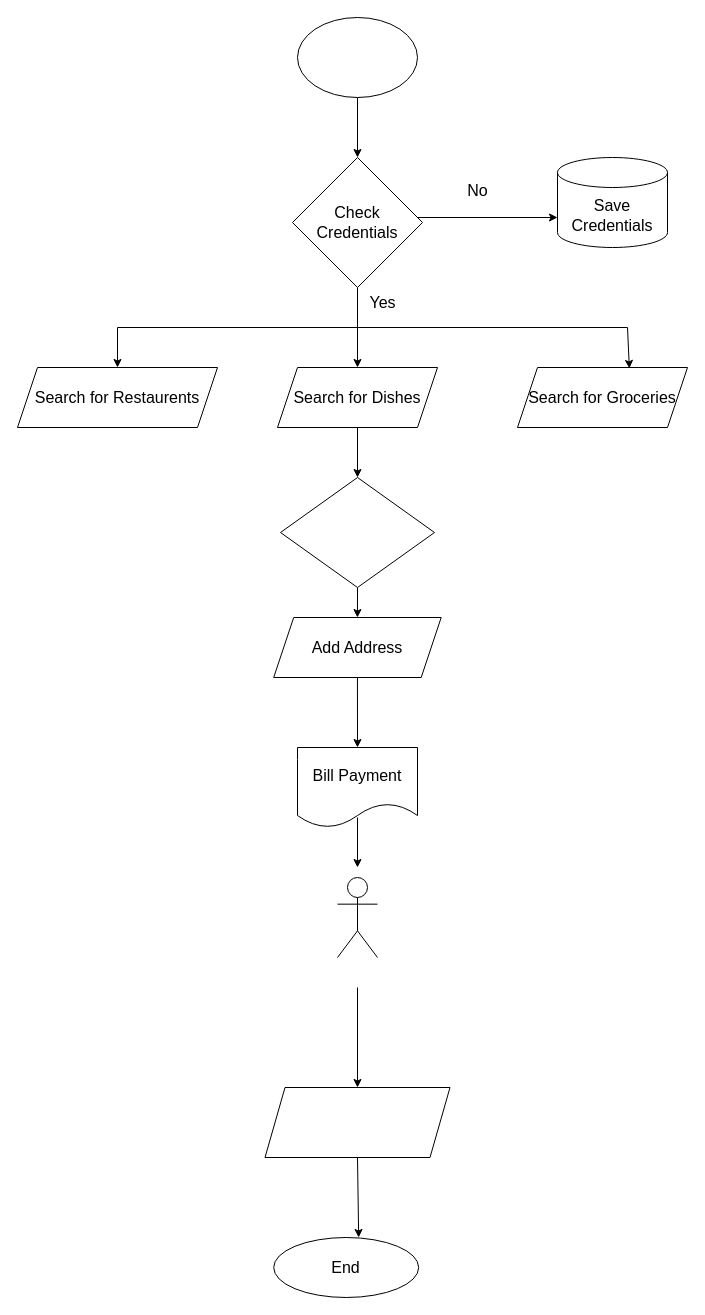
The diagram is 705 pixels wide and 1315 high, and some of its shapes have lost their labels. The shapes that lost their labels are listed below. From the top down, each one's centre as x and y in pixels, then its label:
At [357,57]: "Login".
At [357,532]: "Confirm Order".
At [357,917]: "Assign Delivery Partner".
At [357,1122]: "Feedback".
